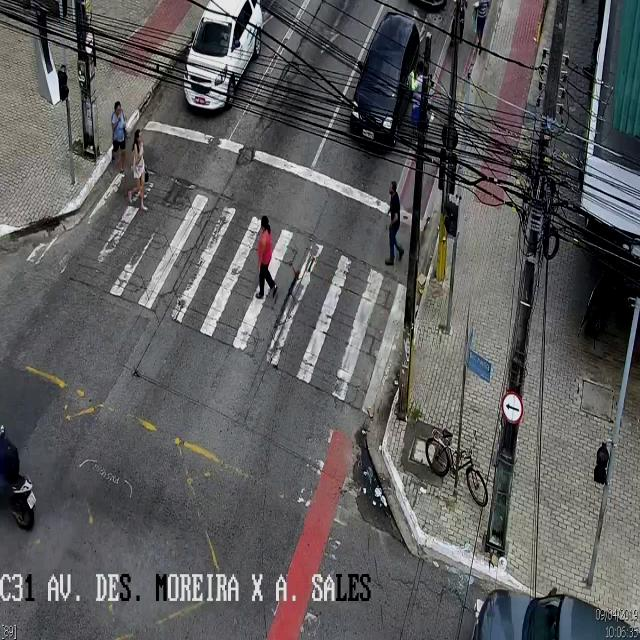Car: (465, 544, 640, 640), (348, 9, 420, 150), (182, 1, 264, 112)
Motorcycle: (0, 411, 58, 534)
